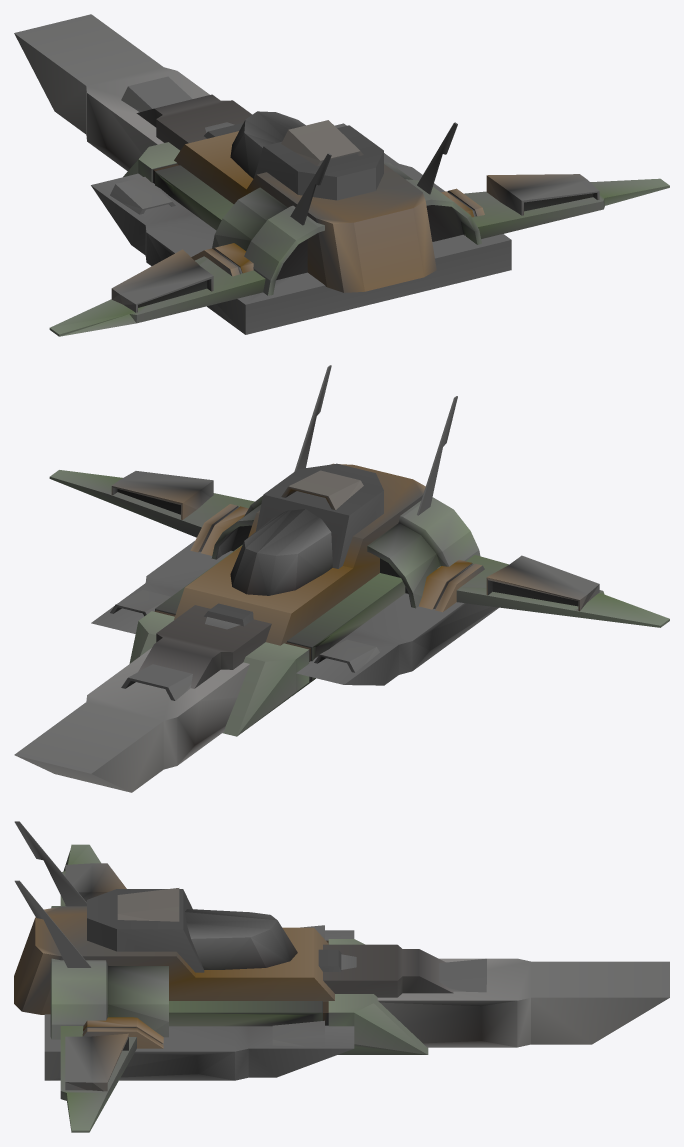
File: challenger.glb
3 views of the same model, one above another, from view 1: azimuth 30°, elevation 25°; view 2: azimuth 150°, elevation 25°; view 3: azimuth 270°, elevation 25° (orthographic). The views are drawn at different scales.
Parts seen in each view (by area): view 1: Challenger; view 2: Challenger; view 3: Challenger.
Part boxes in pixels (x1=…): Challenger: x1=14, y1=14, x2=669, y2=336; Challenger: x1=14, y1=365, x2=669, y2=792; Challenger: x1=14, y1=821, x2=669, y2=1132.
Bounding box in the file's own units: 1 × 0.2878 × 0.9694.
